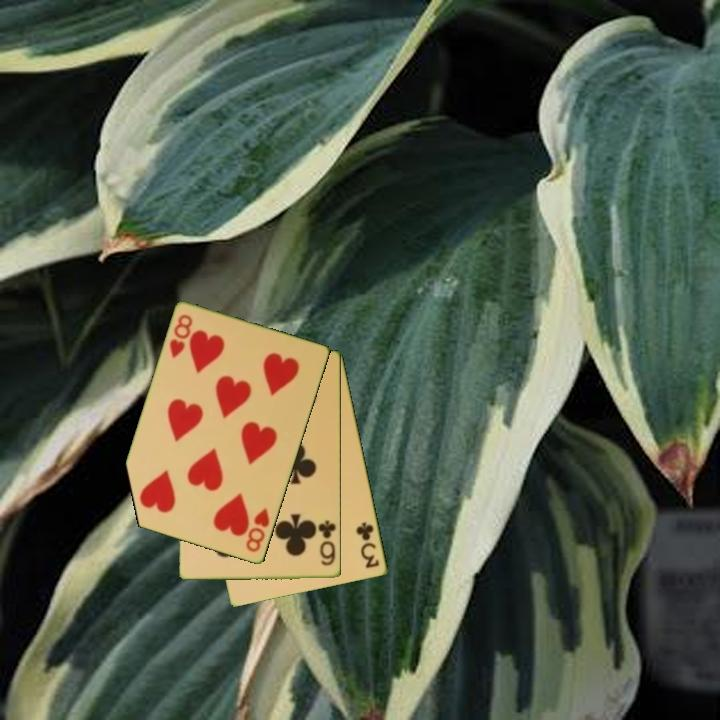3c: (353, 519, 382, 571)
6c: (315, 517, 339, 568)
8h: (243, 504, 273, 556), (166, 311, 195, 361)
